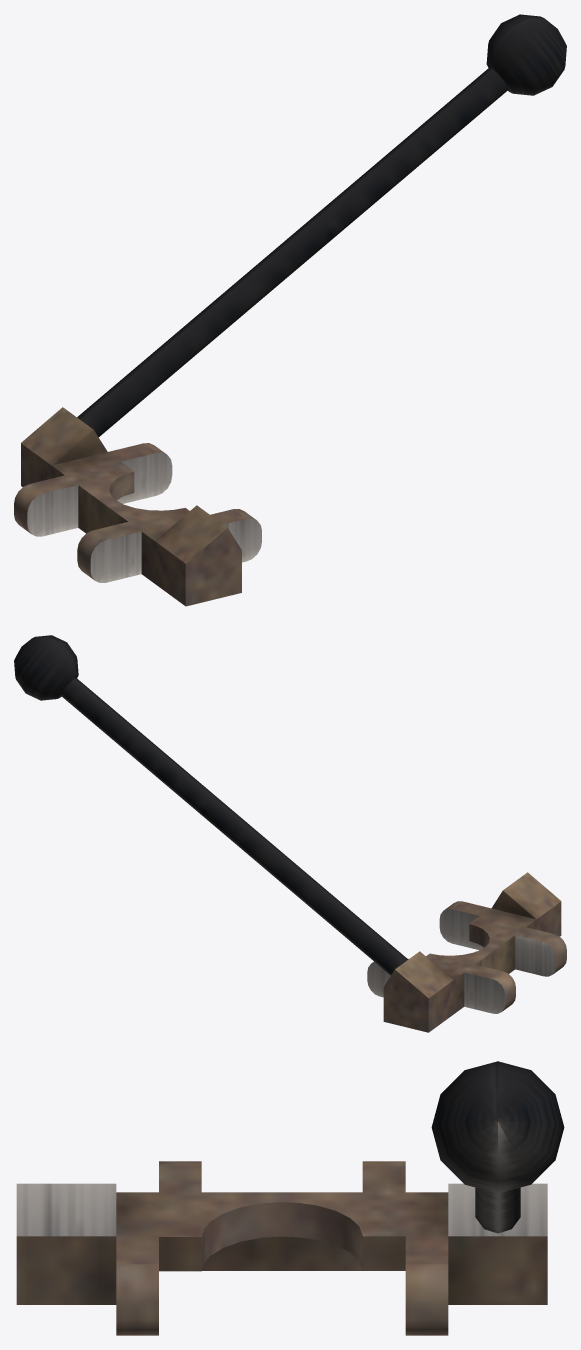
Rendered from ammomaker_ReloadingPressHandle.fbx.
3 views of the same model, one above another, from view 1: azimuth 30°, elevation 25°; view 2: azimuth 150°, elevation 25°; view 3: azimuth 270°, elevation 25° (orthographic). The views are drawn at different scales.
Visible parts, largest first — view 1: ammomaker_ReloadingPressHandle; view 2: ammomaker_ReloadingPressHandle; view 3: ammomaker_ReloadingPressHandle.
Part boxes in pixels (box(x1,y1,x2,y2)): ammomaker_ReloadingPressHandle: box(14, 14, 566, 606); ammomaker_ReloadingPressHandle: box(14, 635, 566, 1032); ammomaker_ReloadingPressHandle: box(16, 1061, 564, 1335).
Bounding box in the file's own units: 11.31 × 6.74 × 5.78.
